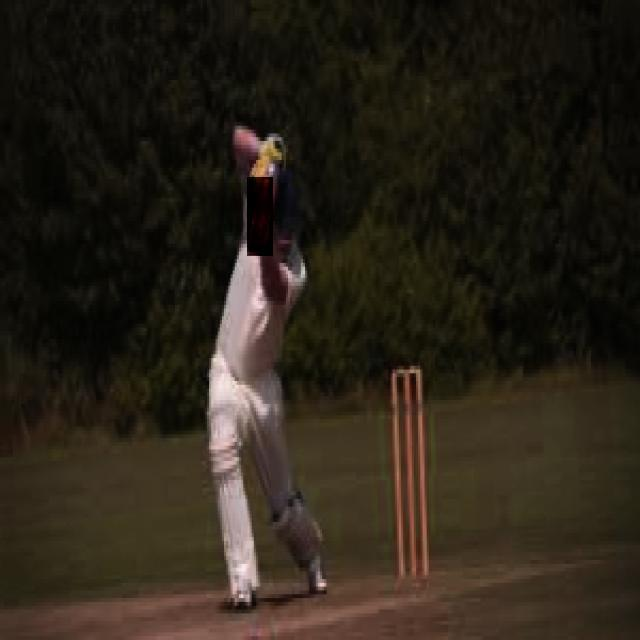bat: (246, 174, 273, 260)
